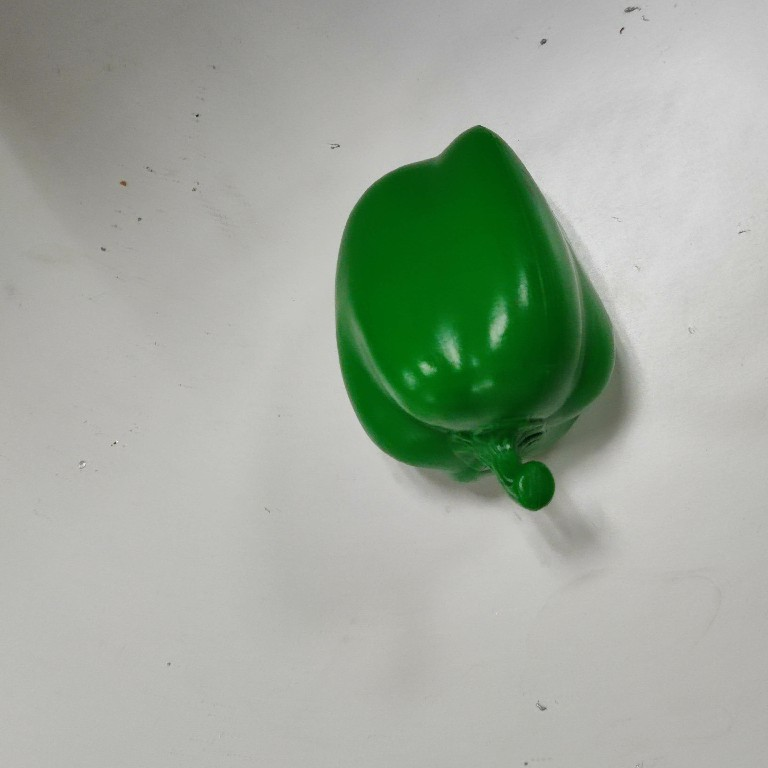fruit_pepper: (330, 120, 620, 519)
